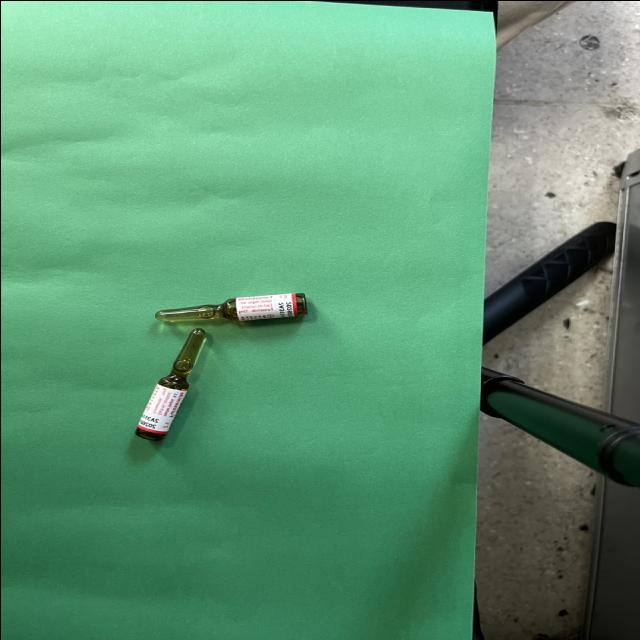Ampoules: (136, 327, 205, 438), (155, 292, 307, 322)
